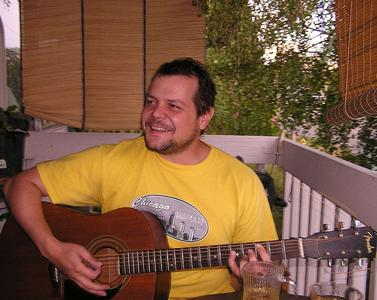person: (5, 58, 284, 299)
